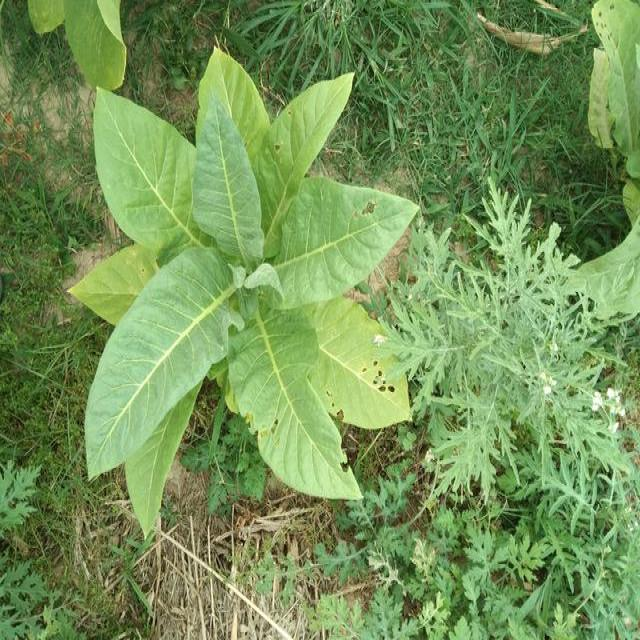crop: (80, 45, 418, 548)
